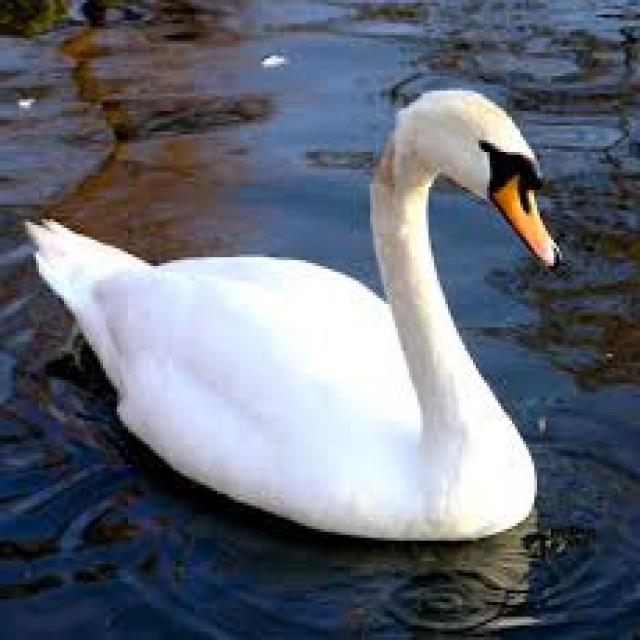swan: (28, 94, 563, 538)
